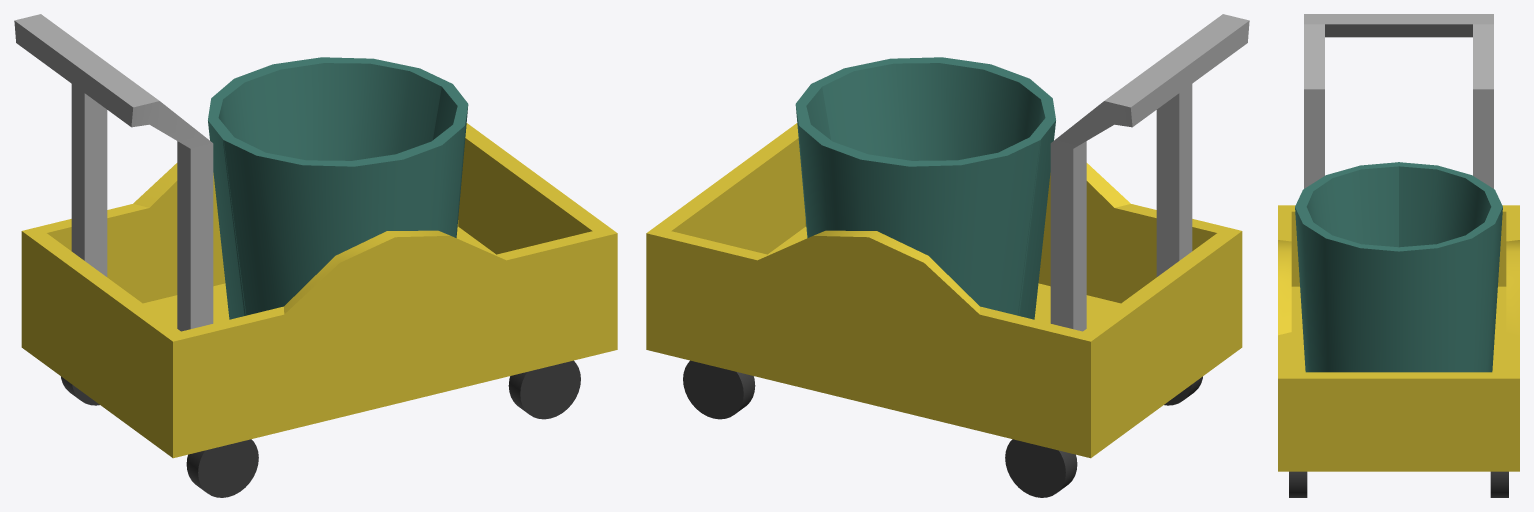
The model's file is bucket.glb.
3 renders of one model, left to right at view 1: azimuth 30°, elevation 25°; view 2: azimuth 150°, elevation 25°; view 3: azimuth 270°, elevation 25°, orthographic. The views are drawn at different scales.
Visible parts, largest first — view 1: Plane.006; view 2: Plane.006; view 3: Plane.006.
Boxes of the visible parts, x1,y1,x2,y2 form: Plane.006: (14,14,617,497); Plane.006: (646,14,1249,497); Plane.006: (1278,14,1519,497).
Bounding box in the file's own units: 1.49 × 1.23 × 0.8343.
